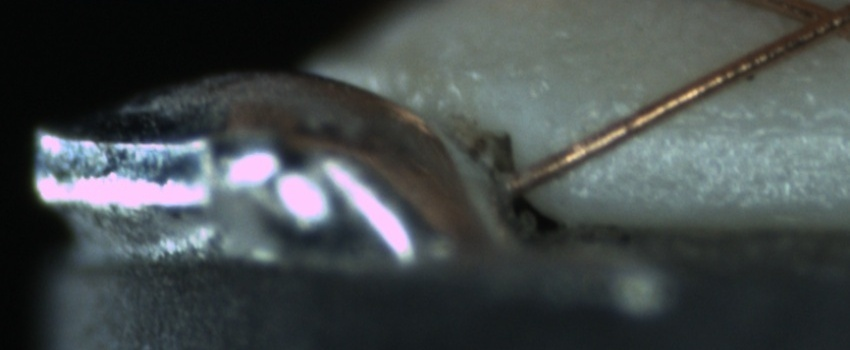CL: (776, 0, 847, 46)
DL: (629, 87, 847, 157)
